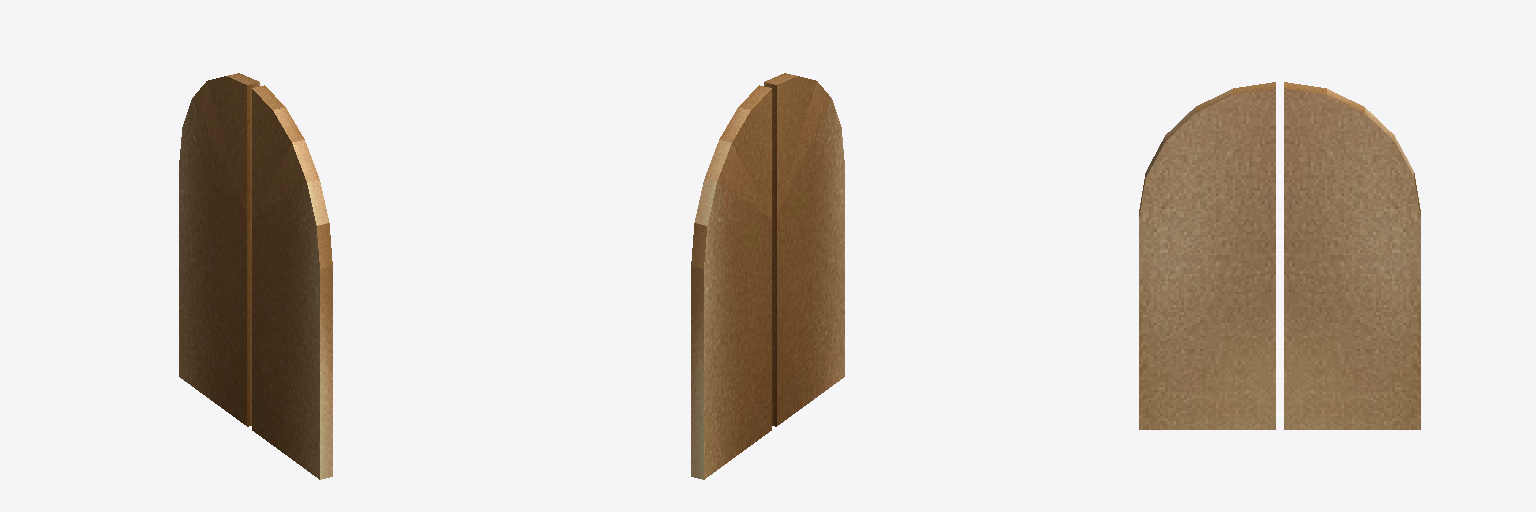
3 views of the same model, side by side, from view 1: azimuth 30°, elevation 25°; view 2: azimuth 150°, elevation 25°; view 3: azimuth 270°, elevation 25° (orthographic).
Visible parts, largest first — view 1: PuertaHorno:polySurface6; view 2: PuertaHorno:polySurface6; view 3: PuertaHorno:polySurface6.
Part boxes in pixels (bbox=[...]): PuertaHorno:polySurface6: bbox=[179, 73, 332, 479]; PuertaHorno:polySurface6: bbox=[691, 73, 844, 479]; PuertaHorno:polySurface6: bbox=[1139, 82, 1420, 429].
Size of the model in its own units: 0.1105 by 2.78 by 2.08.
2 materials, 1 textured.